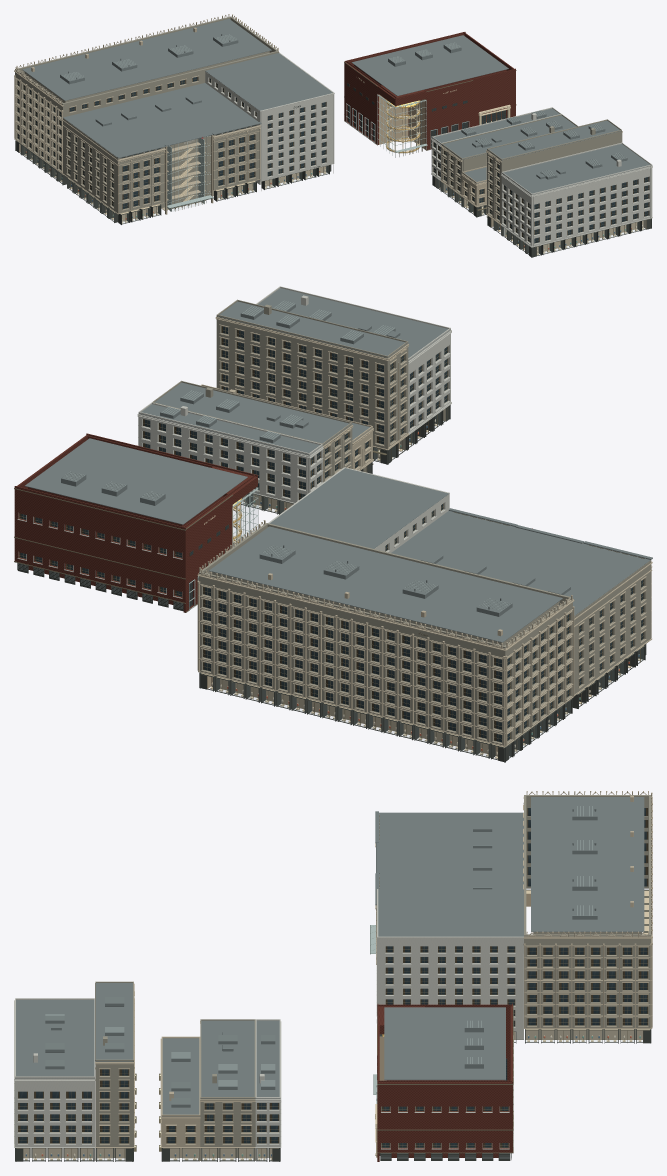
Rendered from square-frontages.glb.
3 renders of one model, top to bottom at view 1: azimuth 30°, elevation 25°; view 2: azimuth 150°, elevation 25°; view 3: azimuth 270°, elevation 25°, orthographic. The views are drawn at different scales.
Parts seen in each view (by area): view 1: Macys original O Farrell block / Roof and service metal, Stockton boutique parcels / Roof and service metal, Stockton boutique parcels / Magnin white marble, Macys Geary / Roof and service metal, Macys Geary / Macy limestone, Neiman Marcus southeast / Neiman checkerboard red granite, I Magnin marble corner / Magnin white marble, Macys original O Farrell block / Macy limestone, Neiman Marcus southeast / Roof and service metal, Macys Geary / Carved warm limestone, Stockton boutique parcels / Macy limestone, I Magnin marble corner / Roof and service metal (+24 smaller); view 2: Macys original O Farrell block / Macy limestone, Macys original O Farrell block / Carved warm limestone, Macys original O Farrell block / Roof and service metal, Neiman Marcus southeast / Neiman checkerboard red granite, Stockton boutique parcels / Roof and service metal, Stockton boutique parcels / Macy limestone, Macys Geary / Roof and service metal, Neiman Marcus southeast / Roof and service metal, Macys original O Farrell block / Recessed smoked glass, Stockton boutique parcels / Magnin white marble, I Magnin marble corner / Roof and service metal, Stockton boutique parcels / Recessed smoked glass (+19 smaller); view 3: Stockton boutique parcels / Roof and service metal, Macys original O Farrell block / Roof and service metal, Macys Geary / Roof and service metal, Neiman Marcus southeast / Neiman checkerboard red granite, Neiman Marcus southeast / Roof and service metal, Macys original O Farrell block / Macy limestone, I Magnin marble corner / Magnin white marble, I Magnin marble corner / Roof and service metal, Macys original O Farrell block / Carved warm limestone, Stockton boutique parcels / Magnin white marble, Stockton boutique parcels / Macy limestone, Macys original O Farrell block / Recessed smoked glass (+17 smaller).
Part boxes in pixels (x1,y1,x2,y2): Macys original O Farrell block / Roof and service metal: (22, 19, 271, 100); Stockton boutique parcels / Roof and service metal: (432, 108, 651, 194); Stockton boutique parcels / Magnin white marble: (431, 107, 652, 247); Macys Geary / Roof and service metal: (63, 83, 261, 158); Macys Geary / Macy limestone: (63, 118, 259, 213); Neiman Marcus southeast / Neiman checkerboard red granite: (344, 32, 515, 149); I Magnin marble corner / Magnin white marble: (205, 52, 334, 190); Macys original O Farrell block / Macy limestone: (15, 16, 278, 171); Neiman Marcus southeast / Roof and service metal: (351, 35, 508, 95); Macys Geary / Carved warm limestone: (62, 120, 261, 214); Stockton boutique parcels / Macy limestone: (441, 114, 622, 223); I Magnin marble corner / Roof and service metal: (205, 53, 332, 110); Macys original O Farrell block / Macy limestone: (199, 523, 572, 745); Macys original O Farrell block / Carved warm limestone: (197, 520, 574, 746); Macys original O Farrell block / Roof and service metal: (209, 526, 562, 642); Neiman Marcus southeast / Neiman checkerboard red granite: (14, 433, 257, 612); Stockton boutique parcels / Roof and service metal: (139, 288, 450, 455); Stockton boutique parcels / Macy limestone: (152, 299, 408, 481); Macys Geary / Roof and service metal: (391, 508, 652, 615); Neiman Marcus southeast / Roof and service metal: (18, 438, 247, 609); Macys original O Farrell block / Recessed smoked glass: (203, 587, 569, 742); Stockton boutique parcels / Magnin white marble: (137, 286, 451, 503); I Magnin marble corner / Roof and service metal: (270, 468, 448, 548); Stockton boutique parcels / Recessed smoked glass: (143, 326, 447, 499); Stockton boutique parcels / Roof and service metal: (15, 983, 280, 1116); Macys original O Farrell block / Roof and service metal: (531, 797, 644, 931); Macys Geary / Roof and service metal: (375, 811, 523, 905); Neiman Marcus southeast / Neiman checkerboard red granite: (377, 1003, 512, 1161); Neiman Marcus southeast / Roof and service metal: (381, 1007, 511, 1158); Macys original O Farrell block / Macy limestone: (524, 795, 651, 1039); I Magnin marble corner / Magnin white marble: (376, 889, 523, 1039); I Magnin marble corner / Roof and service metal: (378, 889, 523, 936); Macys original O Farrell block / Carved warm limestone: (523, 791, 652, 1028); Stockton boutique parcels / Magnin white marble: (14, 998, 281, 1160); Stockton boutique parcels / Macy limestone: (95, 981, 255, 1160); Macys original O Farrell block / Recessed smoked glass: (527, 808, 647, 1025).
Bounding box in the file's own units: 222 × 46.05 × 231.
Materials: 22 (5 with a texture image).
